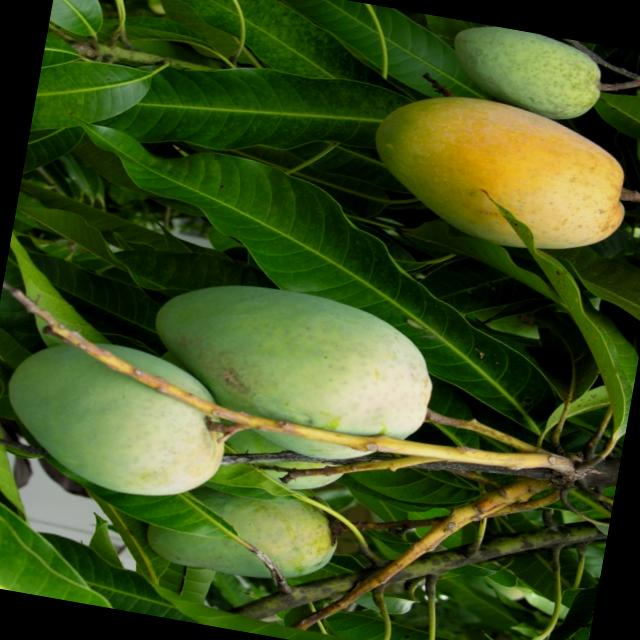mango: (141, 262, 463, 468), (366, 87, 639, 259), (0, 327, 242, 514)
